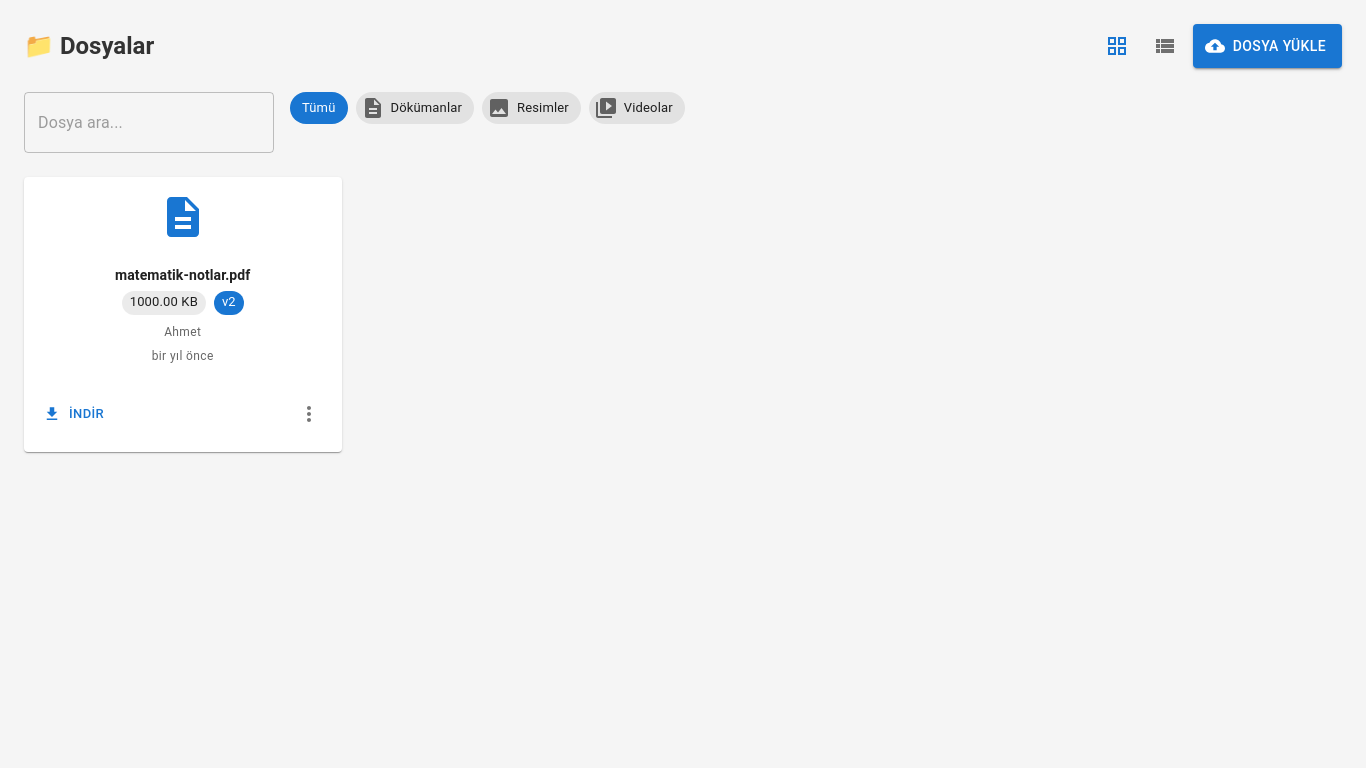
FileManager Component › File Versions › shows versions dialog for versioned files
The image size is (1366, 768).
Click the button with test id "MoreVertIcon": {"x": 308, "y": 414} [292,392,326,436]
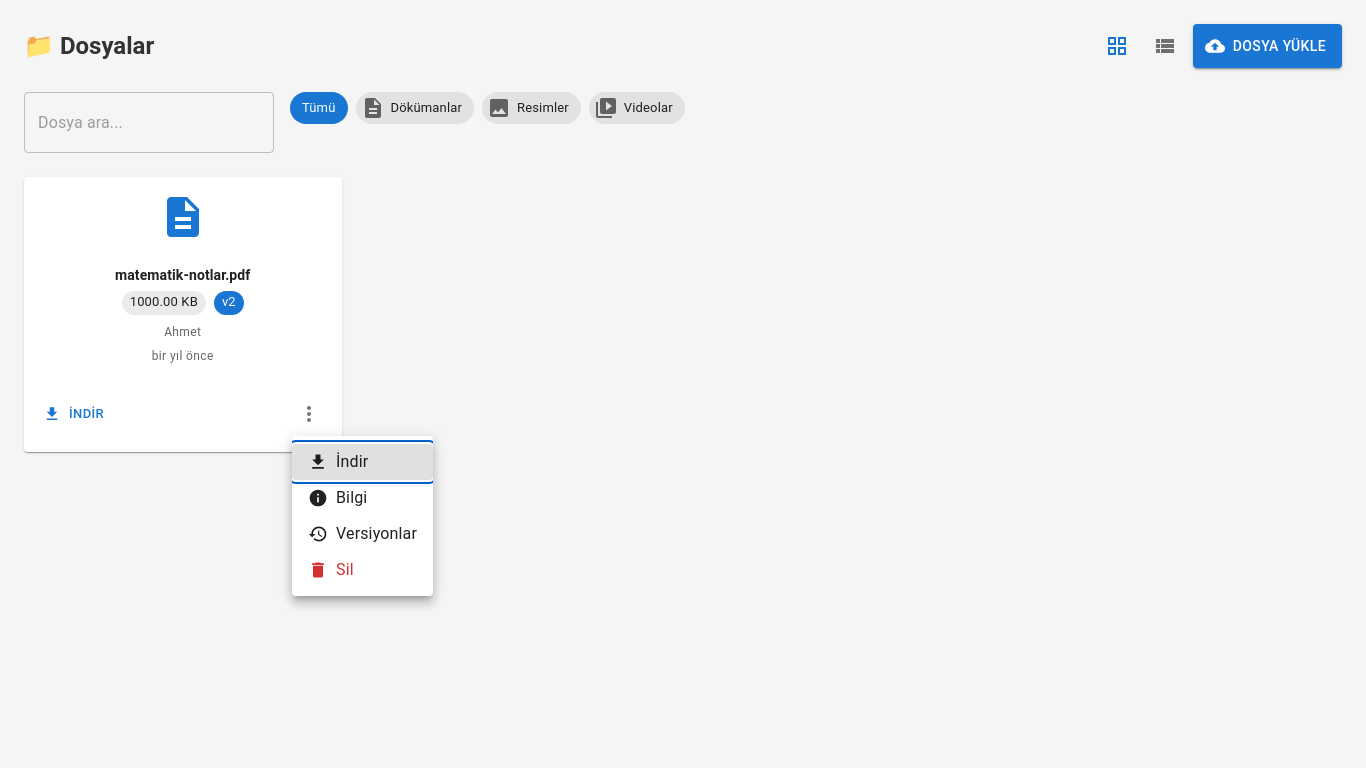
Click the menu item "Versiyonlar": {"x": 362, "y": 534} [308,524,417,544]
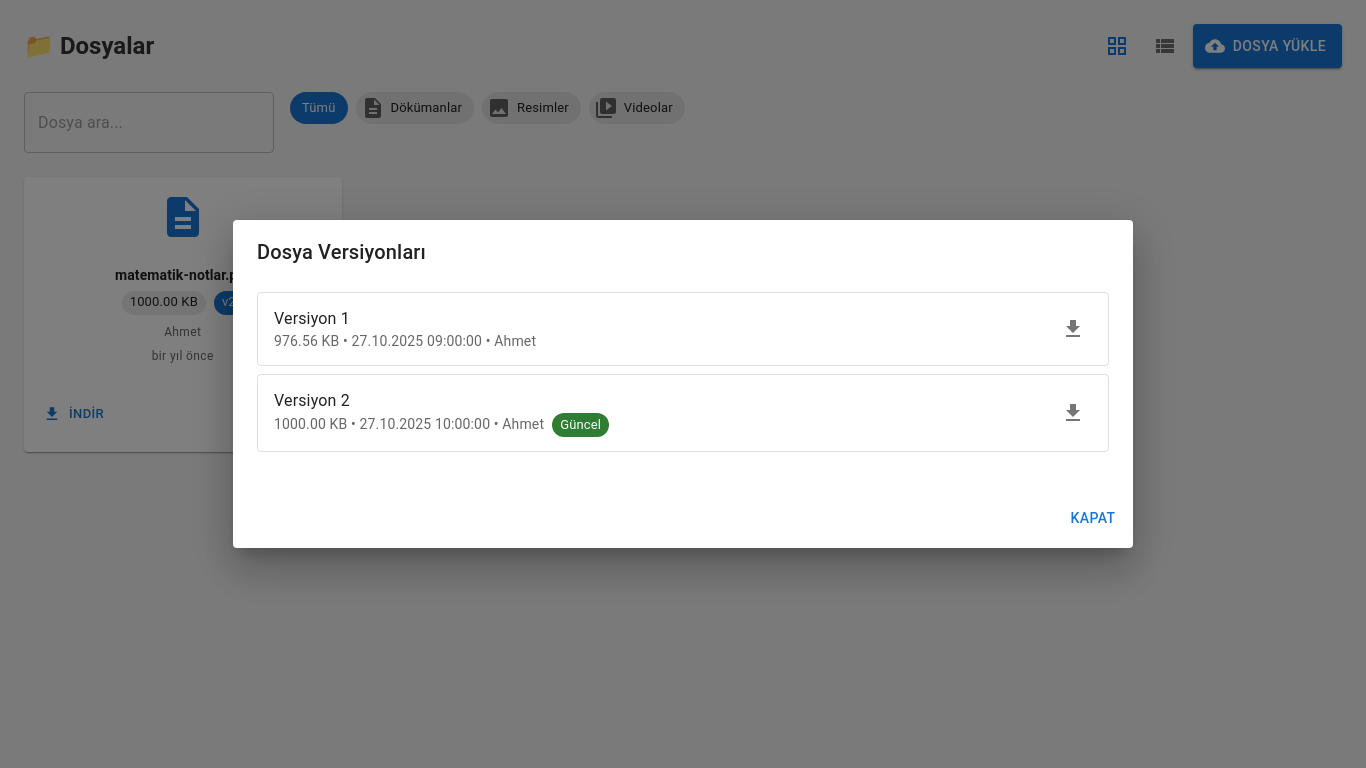
Check: the heading "Dosya Versiyonları" is shown, box [257,240,426,264]
Check: the text "Versiyon 1" is shown, box [274,309,350,328]
Check: the text "Versiyon 2" is shown, box [274,391,350,410]
